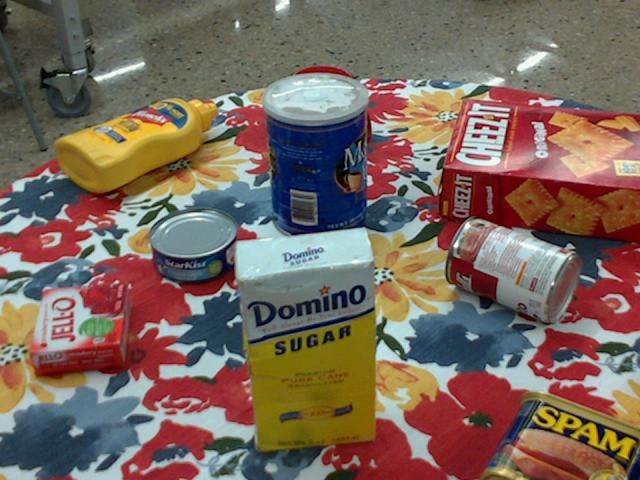cracker_box: (440, 98, 639, 243)
gelatin_box: (31, 285, 132, 379)
master_chef_can: (262, 72, 369, 242)
mug: (284, 66, 370, 159)
mustard_bottle: (54, 98, 216, 192)
potted_meat_can: (482, 388, 639, 479)
sugar_box: (232, 226, 376, 454)
tomato_soup_can: (447, 216, 583, 322)
tuna_fish_can: (146, 208, 237, 284)
